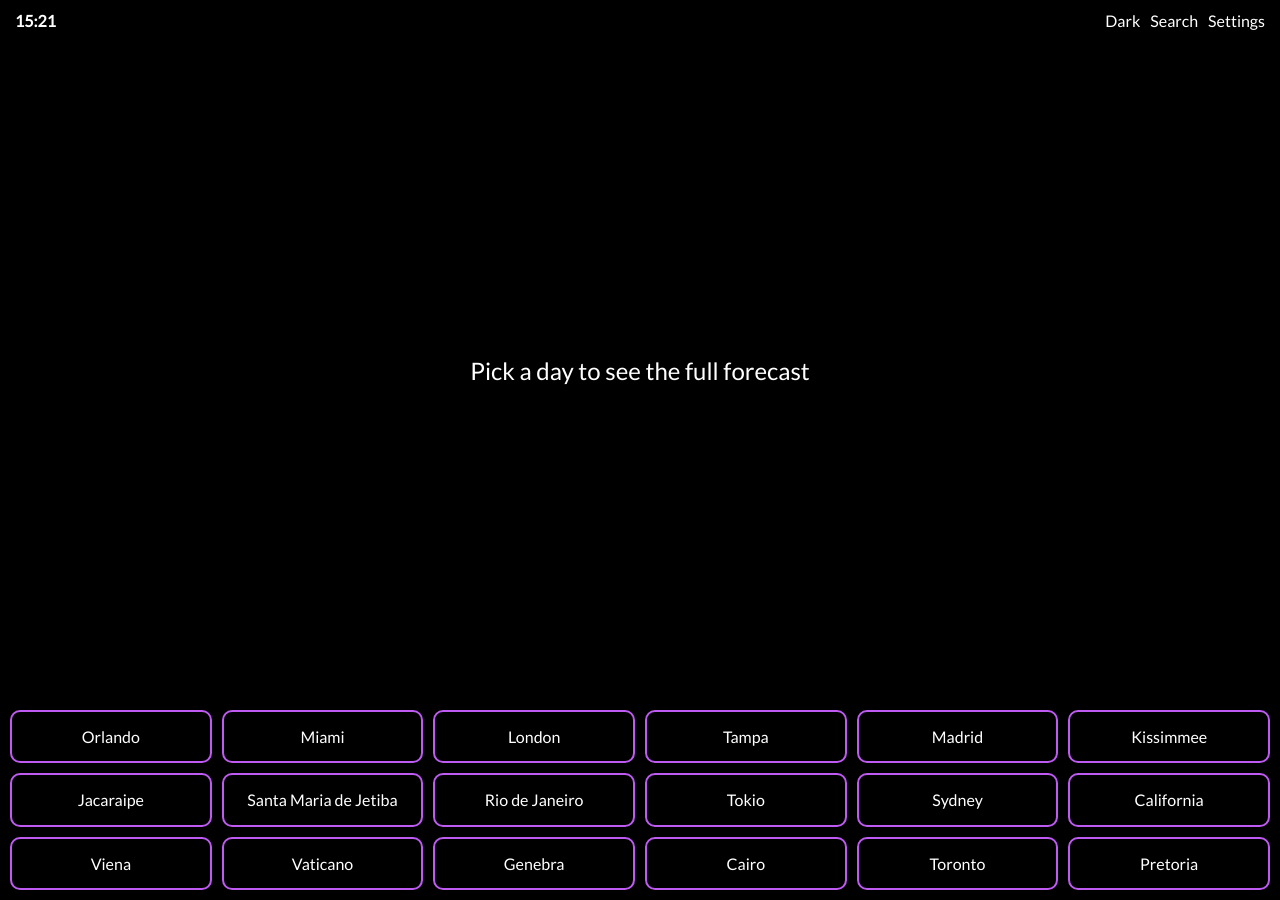
Test: open modal
Click the text "Settings".
click(1237, 20)  # box x1=1208 y1=10 x2=1265 y2=30
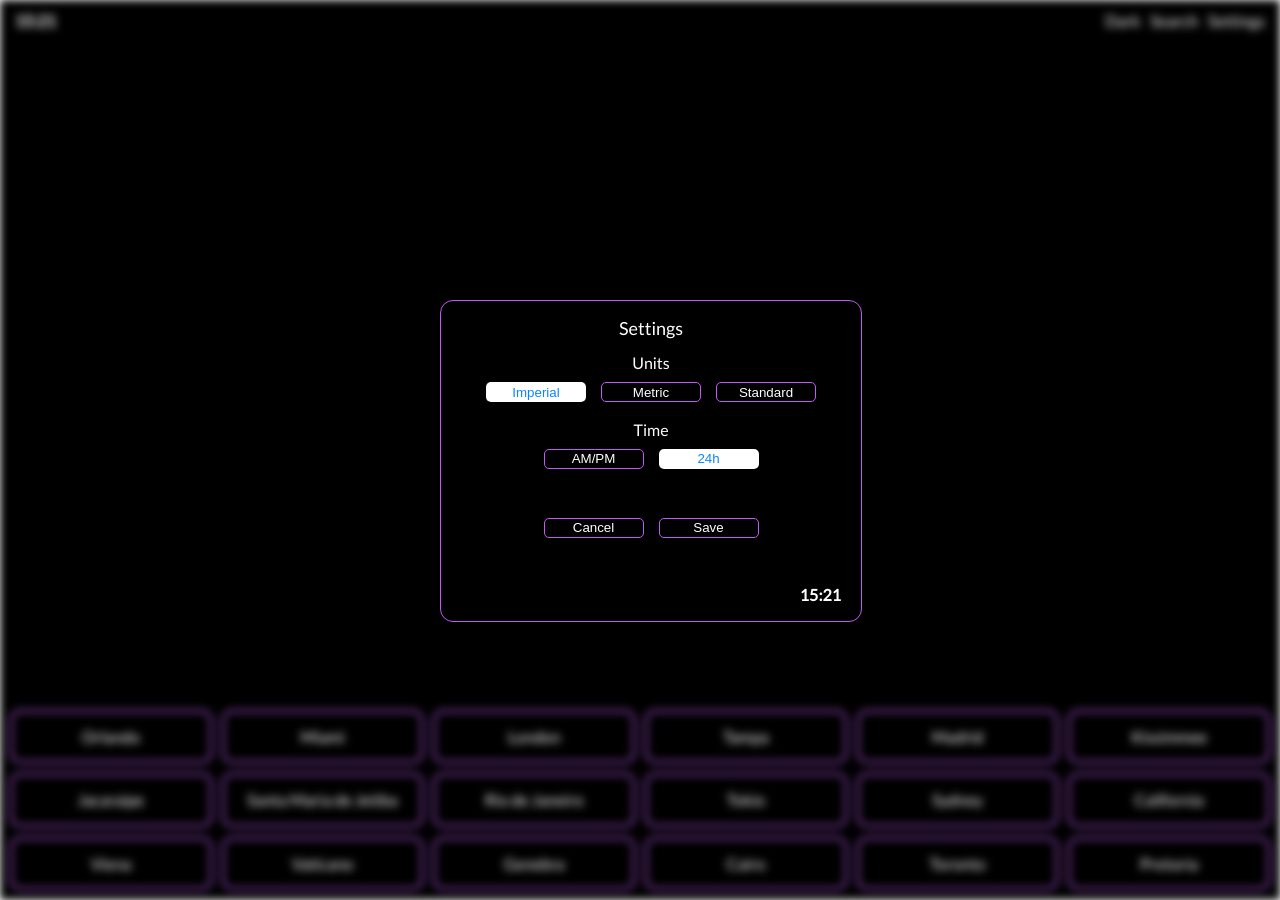
Expected: the dialog is shown, x1=440 y1=300 x2=862 y2=622
Expected: the text "Settings" is shown, x1=619 y1=317 x2=683 y2=339
